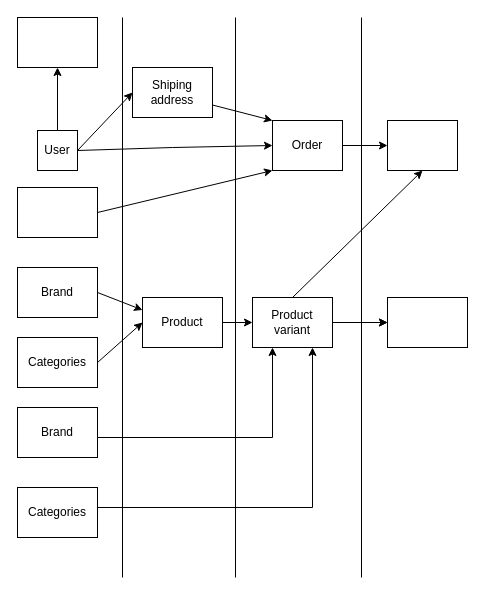
Some shapes in this 485 by 596 pixel diagram are drawn without their labels. Each missing label, with the centre of its shape:
"Cartitem" goes at (427,322).
"Order Item" goes at (422,145).
"Payment Methods" goes at (57,212).
"Refresh Token" goes at (57,42).
